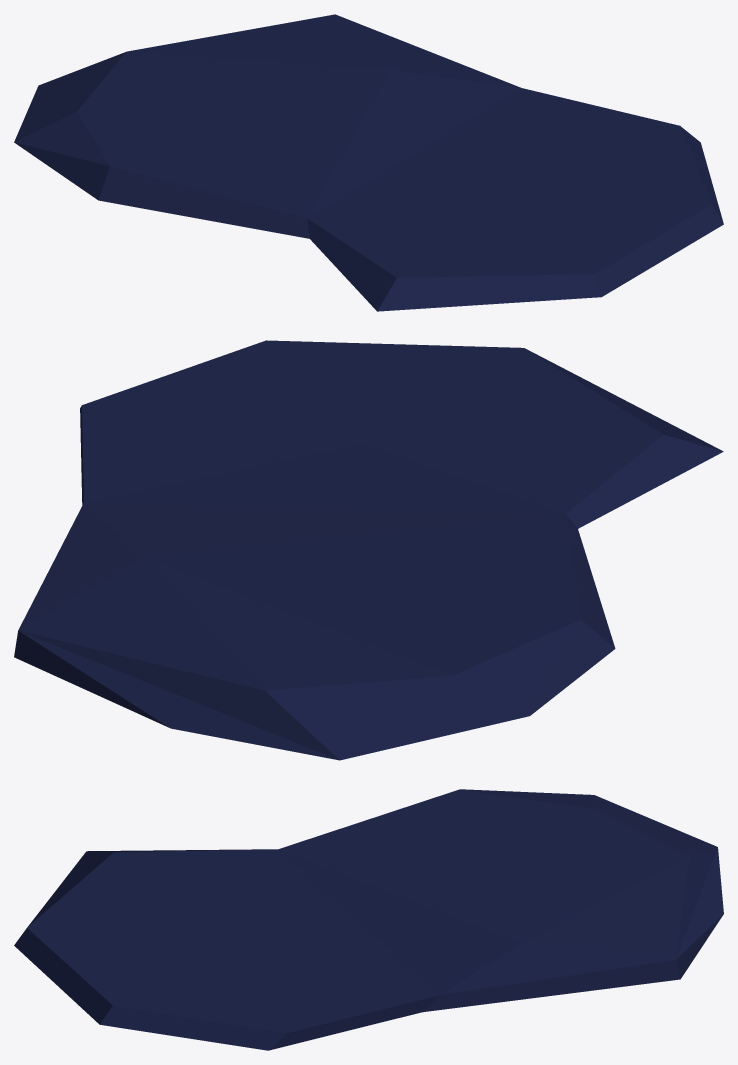
The model's file is Cave_stone_13.glb.
3 views of the same model, one above another, from view 1: azimuth 30°, elevation 25°; view 2: azimuth 150°, elevation 25°; view 3: azimuth 270°, elevation 25° (orthographic). The views are drawn at different scales.
Parts seen in each view (by area): view 1: Cave_stone_13; view 2: Cave_stone_13; view 3: Cave_stone_13.
Boxes of the visible parts, x1,y1,x2,y2 form: Cave_stone_13: [14, 14, 723, 311]; Cave_stone_13: [14, 340, 723, 760]; Cave_stone_13: [14, 789, 723, 1050].
Bounding box in the file's own units: 3.02 × 0.1969 × 3.63.
